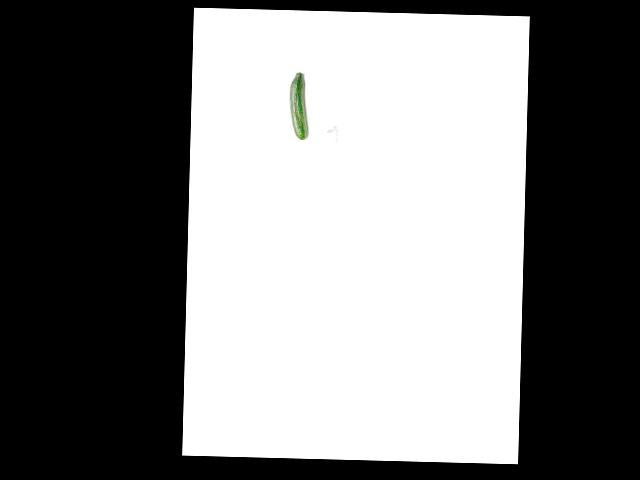cucumber: (289, 72, 309, 140)
